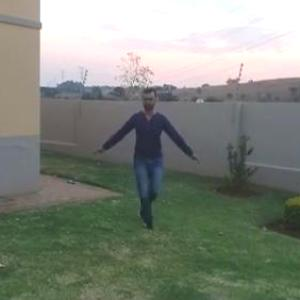land: (97, 76, 205, 237)
